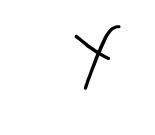mult: (74, 25, 121, 90)
